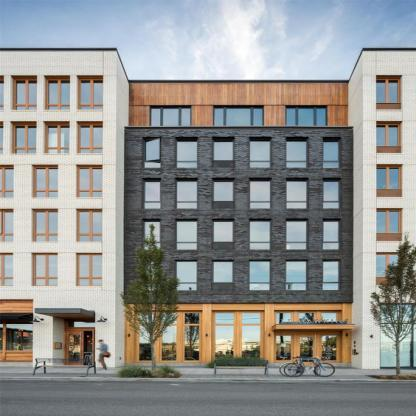Building Outline: (124, 80, 355, 367)
Deco: (280, 319, 348, 324)
Door: (294, 334, 316, 366)
Facade: (123, 80, 354, 368)
Floor Slab: (124, 293, 353, 297), (124, 129, 353, 133), (124, 210, 353, 214), (124, 252, 353, 256), (124, 170, 353, 174)
Window: (215, 107, 263, 126), (287, 107, 326, 126), (152, 107, 191, 126), (215, 326, 234, 360), (242, 326, 260, 360), (286, 140, 307, 168), (250, 140, 271, 168), (176, 140, 197, 168), (286, 262, 307, 290), (250, 262, 271, 290), (176, 262, 197, 290), (286, 180, 307, 208), (250, 180, 271, 208), (176, 180, 197, 208), (286, 222, 307, 250), (250, 222, 271, 250), (176, 222, 197, 250), (213, 140, 233, 168), (213, 262, 233, 290), (213, 180, 233, 208), (213, 222, 233, 250), (140, 326, 155, 360), (185, 326, 200, 360), (162, 326, 177, 360), (323, 140, 339, 168), (323, 262, 339, 290), (323, 180, 339, 208), (323, 222, 339, 250), (145, 262, 160, 290), (145, 180, 160, 208), (145, 222, 160, 250), (145, 140, 160, 168), (322, 336, 337, 360), (277, 336, 292, 360), (215, 313, 234, 324), (242, 313, 260, 324), (277, 313, 292, 324), (322, 313, 337, 324), (300, 313, 315, 324), (140, 313, 155, 324), (162, 313, 177, 324), (185, 313, 200, 324)
